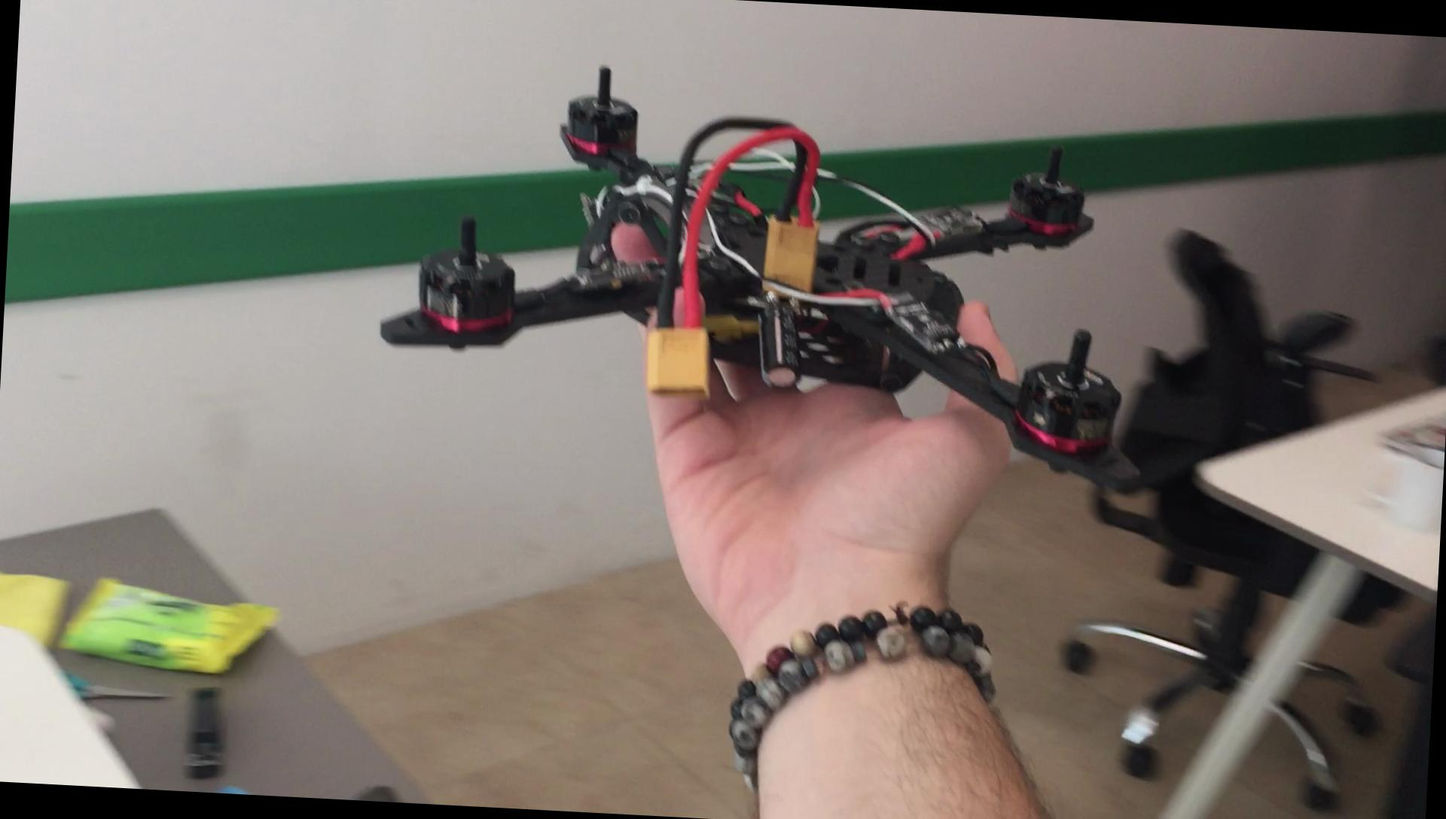drone: (366, 55, 1165, 465)
